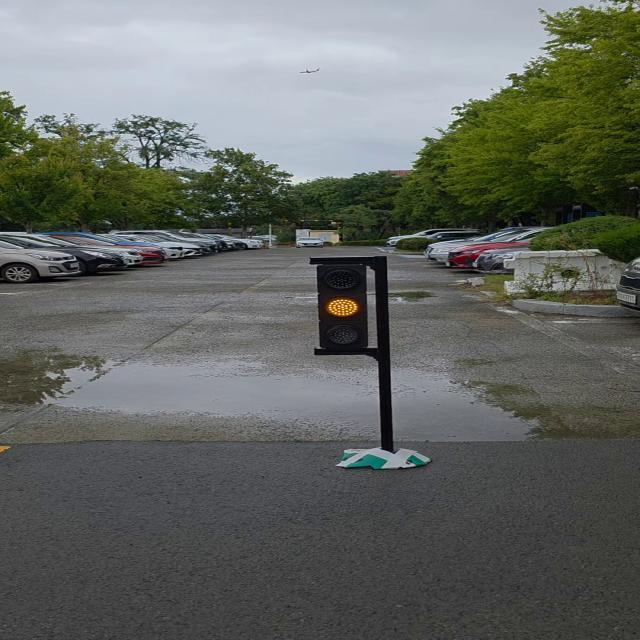yellow: (318, 258, 372, 354)
